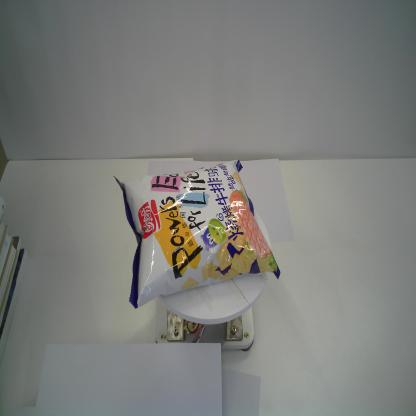Puffed Food: (112, 155, 282, 308)
